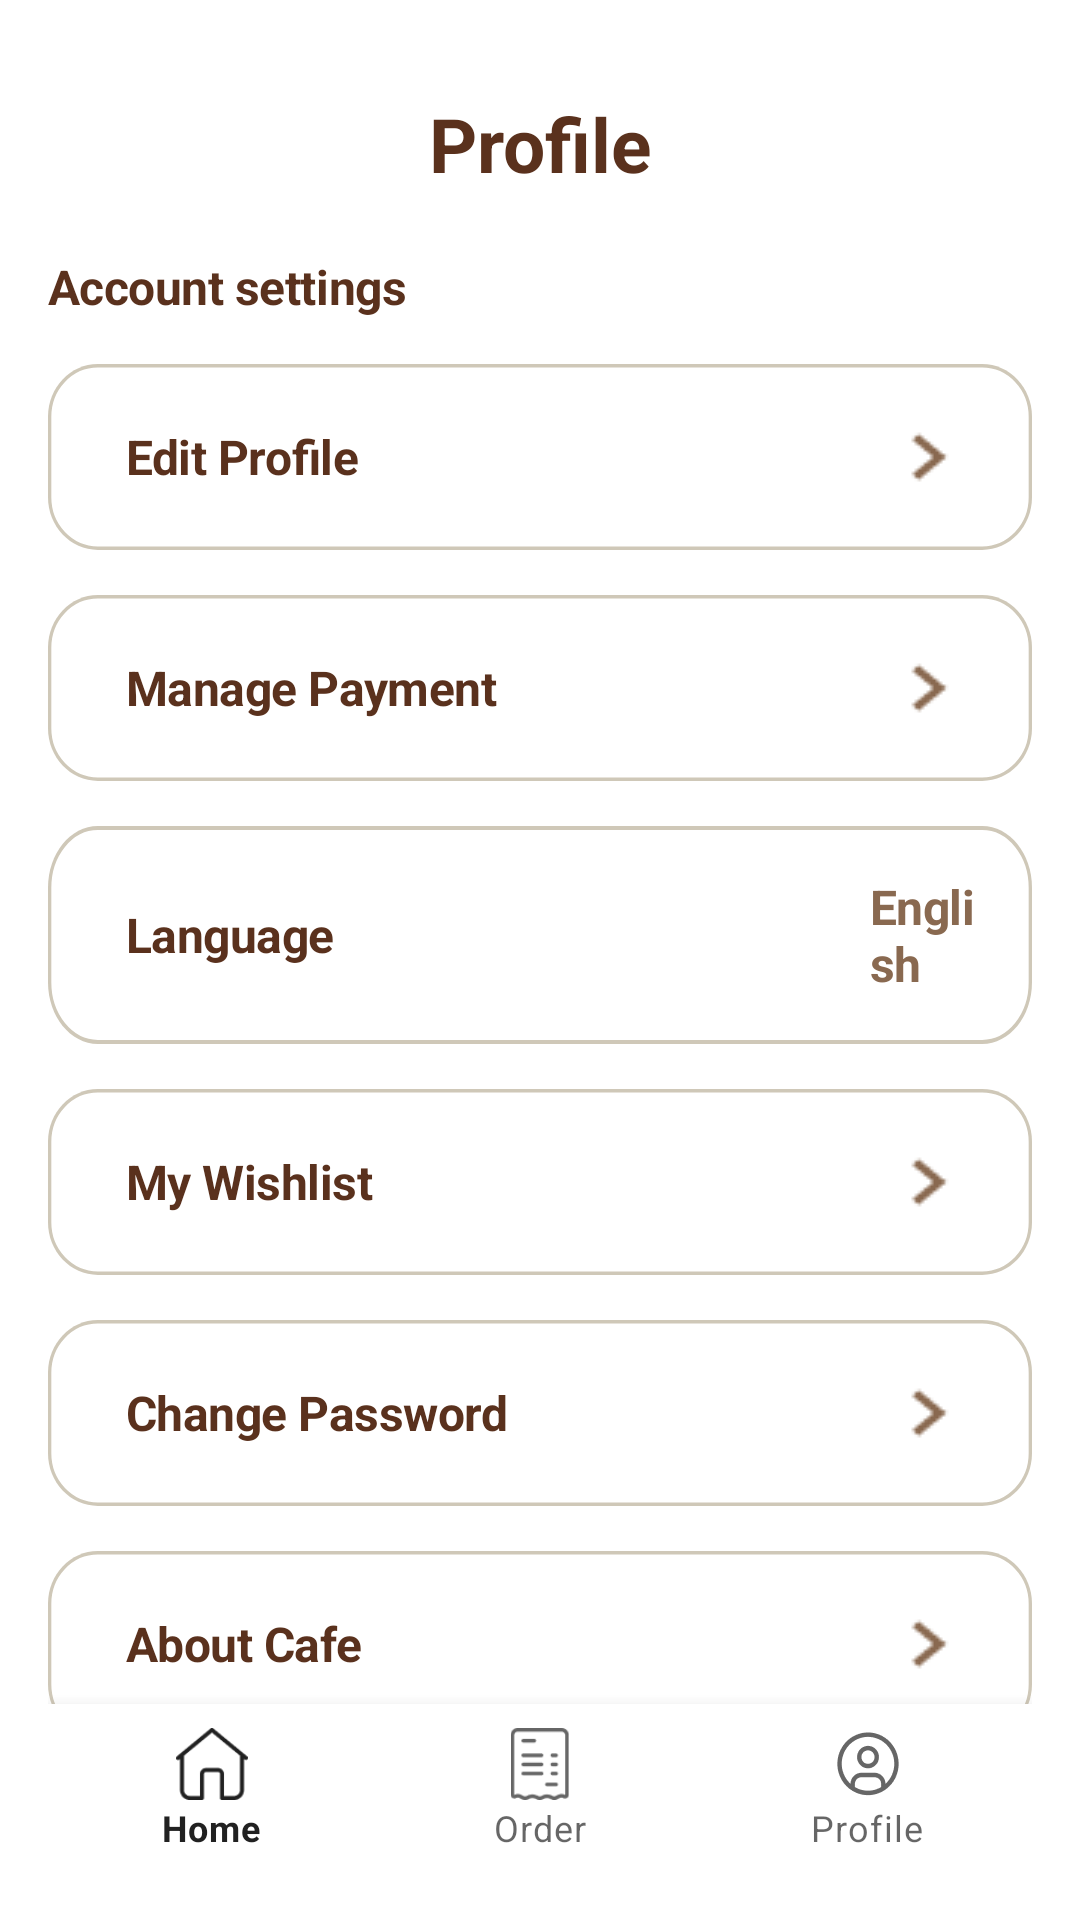

Screen size 1080×1920. Icon name, then its center in pixels as point (x, y):
arrow: point (928, 457), point (928, 688), point (928, 1182), point (928, 1413), point (928, 1644)
